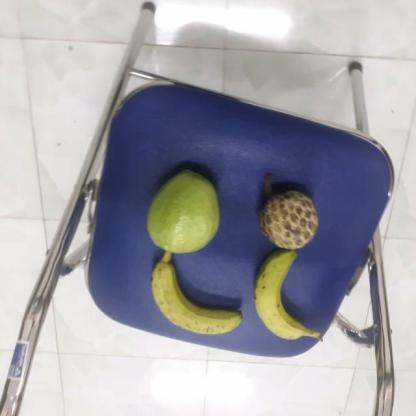annona: (256, 188, 320, 250)
banana: (147, 255, 243, 335), (249, 250, 318, 340)
guava: (144, 168, 222, 252)
